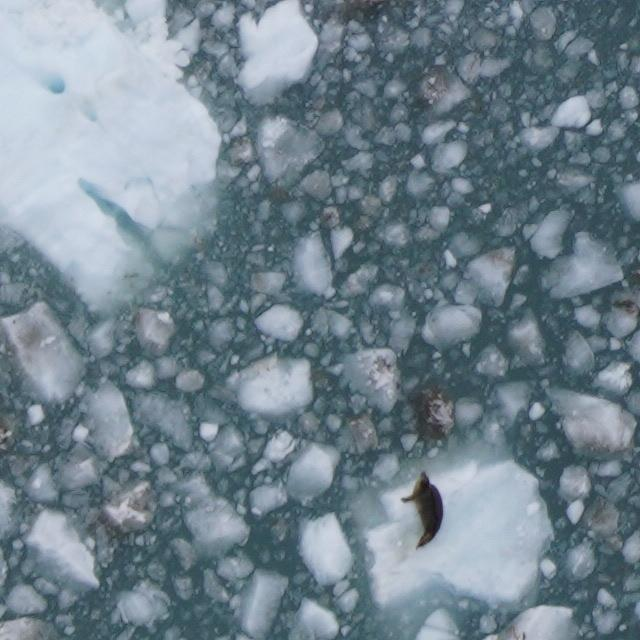seal: (397, 468, 447, 553)
